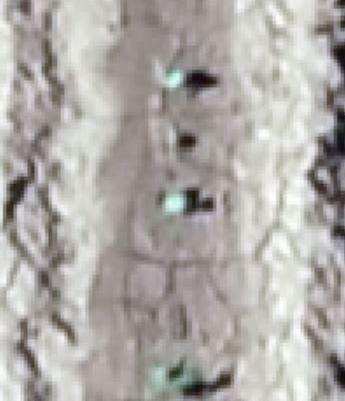cotton: (170, 372, 194, 390), (167, 192, 186, 213), (167, 73, 184, 88)
